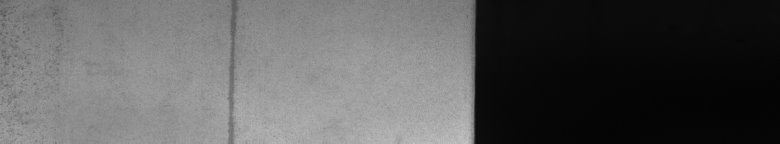hd: (221, 4, 241, 136)
